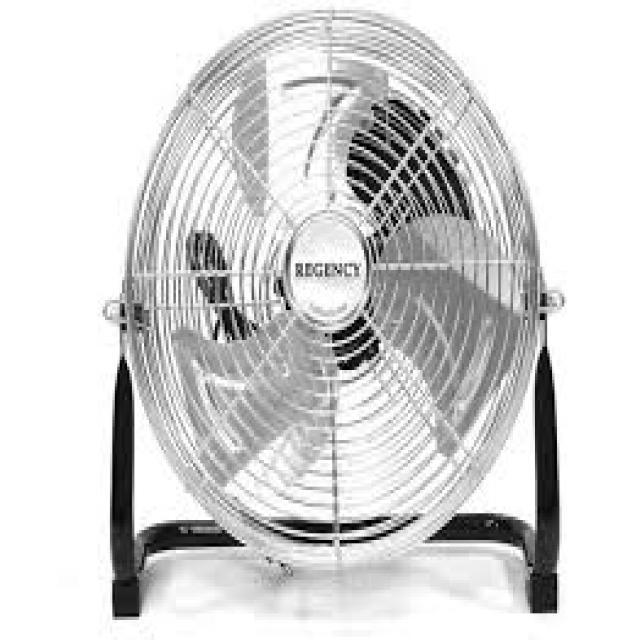fan: (98, 2, 570, 636)
